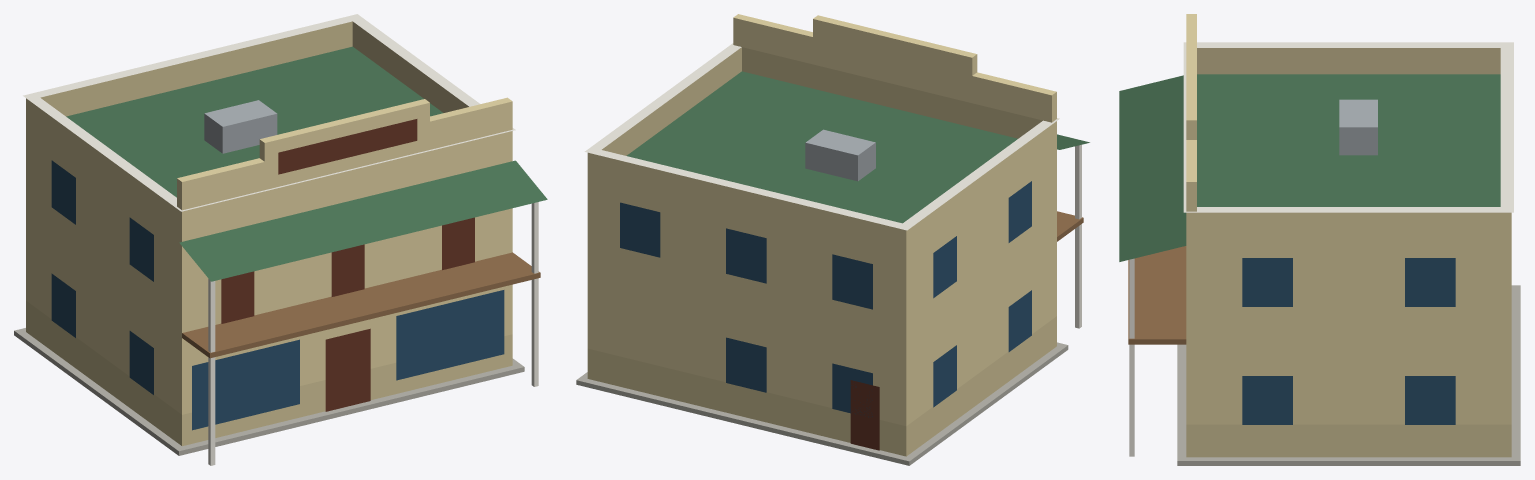
Rendered from shop_11x9_2f_lod1.glb.
The picture shows the model from 3 angles, left to right: view 1: azimuth 30°, elevation 25°; view 2: azimuth 150°, elevation 25°; view 3: azimuth 270°, elevation 25°; orthographic projection. The views are drawn at different scales.
Visible parts, largest first — view 1: block; view 2: block; view 3: block.
Part boxes in pixels (box(x1,y1,x2,y2)): block: box(14, 14, 547, 465); block: box(576, 14, 1089, 465); block: box(1119, 14, 1520, 465).
Bounding box in the file's own units: 11.5 × 9.15 × 11.1.
